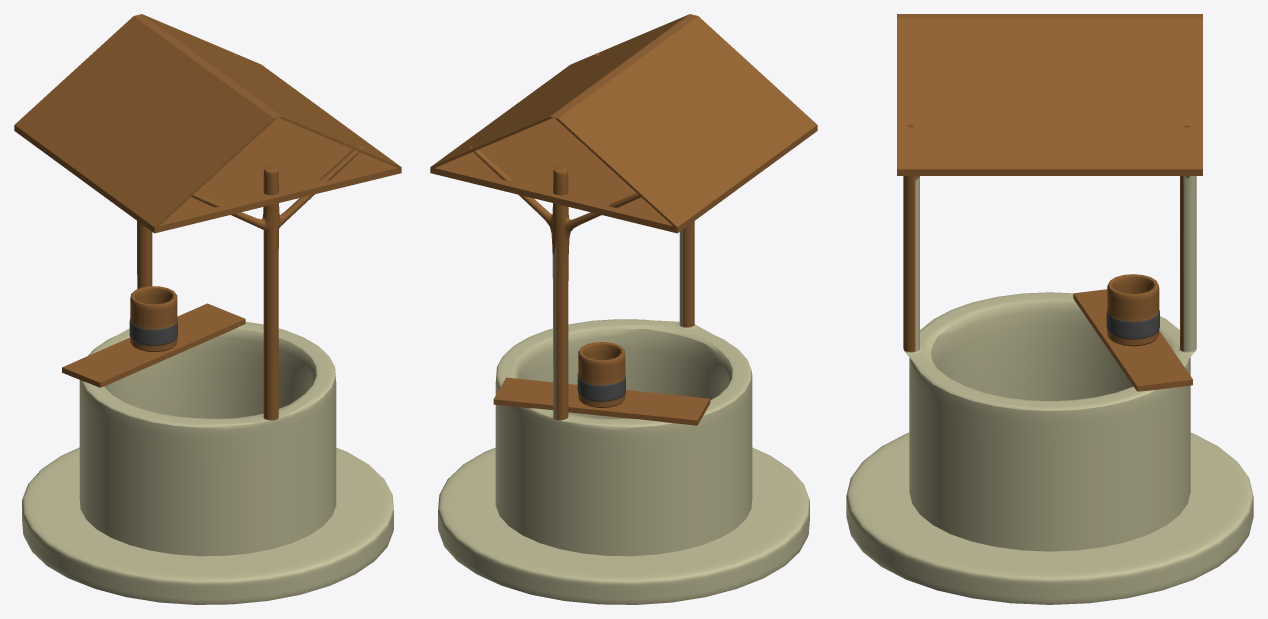
Rendered from WellLPV.fbx.
3 views of the same model, side by side, from view 1: azimuth 30°, elevation 25°; view 2: azimuth 150°, elevation 25°; view 3: azimuth 270°, elevation 25° (orthographic). The views are drawn at different scales.
Parts seen in each view (by area): view 1: Cylinder, Cylinder.002, Plane, Cylinder.001; view 2: Cylinder, Cylinder.002, Plane, Cylinder.001; view 3: Cylinder, Cylinder.002, Plane, Cylinder.001.
Part boxes in pixels (left/top/right/bottom): Cylinder: left=22, top=53, right=393, bottom=604; Cylinder.002: left=14, top=14, right=401, bottom=233; Plane: left=62, top=303, right=245, bottom=387; Cylinder.001: left=129, top=286, right=177, bottom=351; Cylinder: left=438, top=53, right=809, bottom=604; Cylinder.002: left=430, top=14, right=817, bottom=233; Plane: left=493, top=377, right=710, bottom=425; Cylinder.001: left=577, top=342, right=625, bottom=407; Cylinder: left=846, top=124, right=1253, bottom=604; Cylinder.002: left=897, top=14, right=1202, bottom=175; Plane: left=1073, top=289, right=1192, bottom=391; Cylinder.001: left=1106, top=274, right=1159, bottom=346.
Size of the model in its own units: 262 by 359 by 262.
